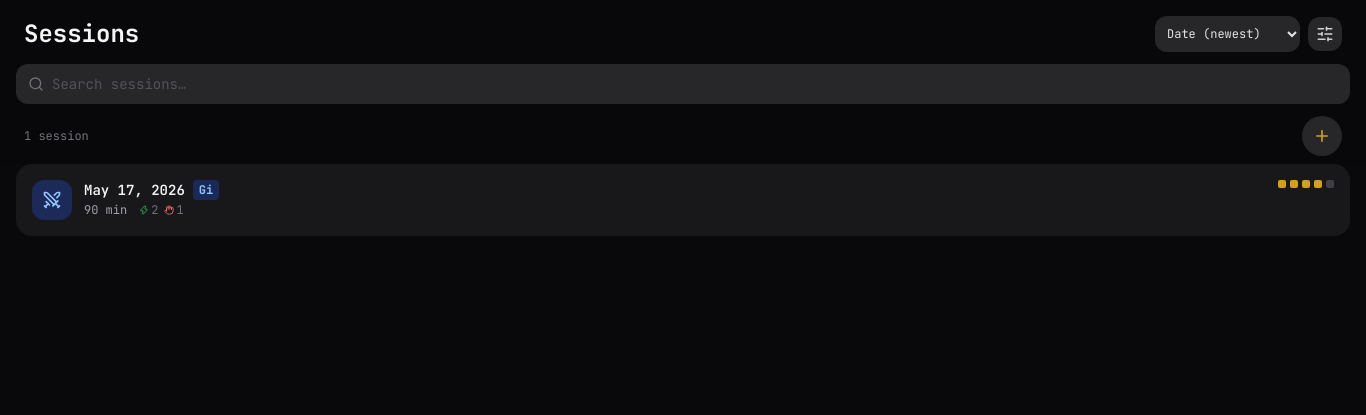
Test case: SessionsPage › filters sessions by given and received taps
In the field labelled "Search sessions": (683, 84) left=16, top=64, right=1350, bottom=104, type "given 2"
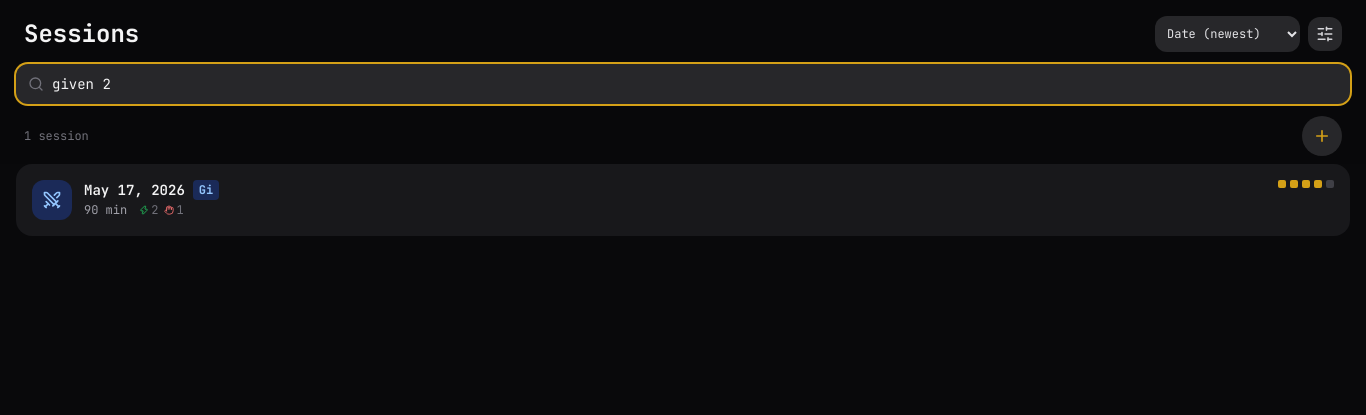
Expected: the text "90 min" is shown, left=84, top=202, right=127, bottom=218
Replace the text in the field named "Search sessions" with "received 3": (683, 84) left=16, top=64, right=1350, bottom=104
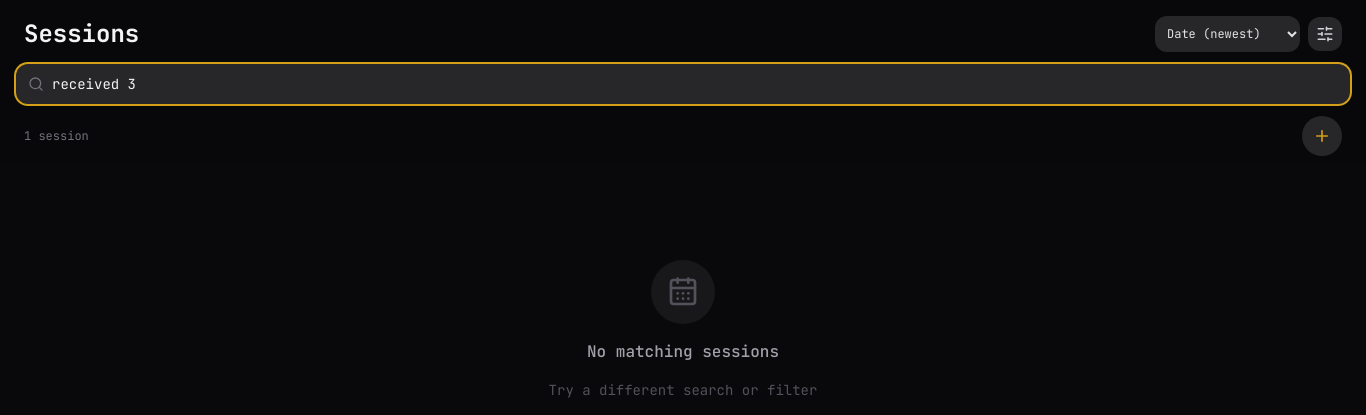
Expected: the button "90 min" is gone
